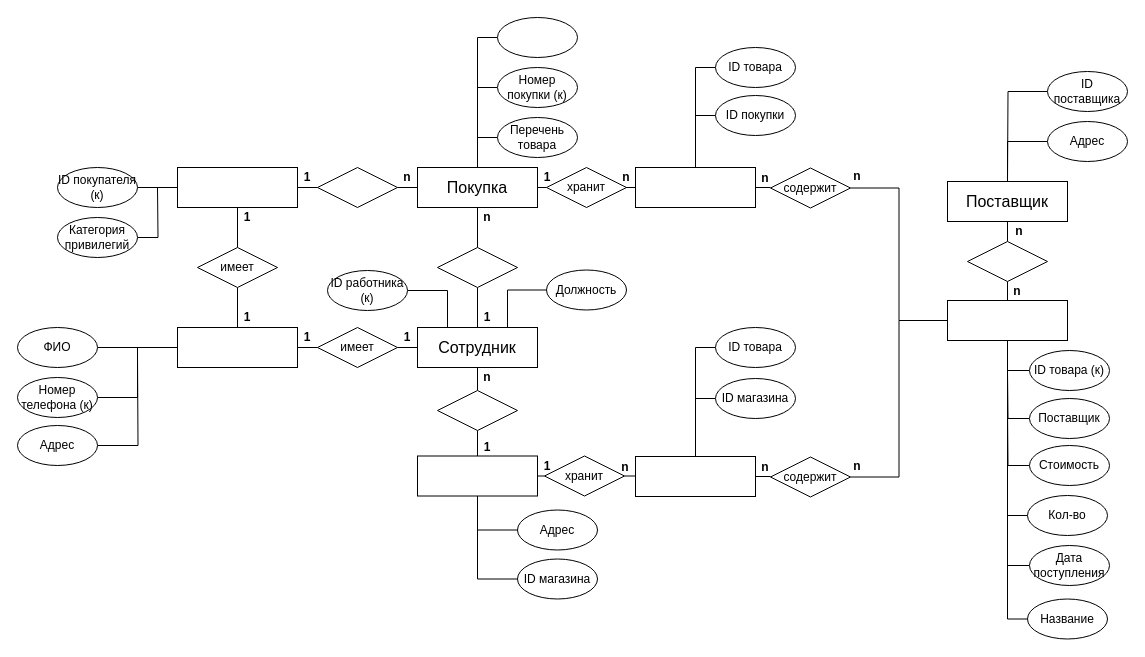
This 1145x657 diagram has some shape labels left out. Each missing label, with the centre of its shape:
"Дата покупки" goes at (537,37).
"Контактные данные" goes at (237,347).
"Магазин" goes at (477,475).
"Магазин/Товар" goes at (695,476).
"оформляет" goes at (477,267).
"Покупатель" goes at (237,187).
"Покупка/Товар" goes at (695,187).
"поставляет" goes at (1007,261).
"работает" goes at (477,410).
"совершает" goes at (357,187).
"Товар" goes at (1007,320).
